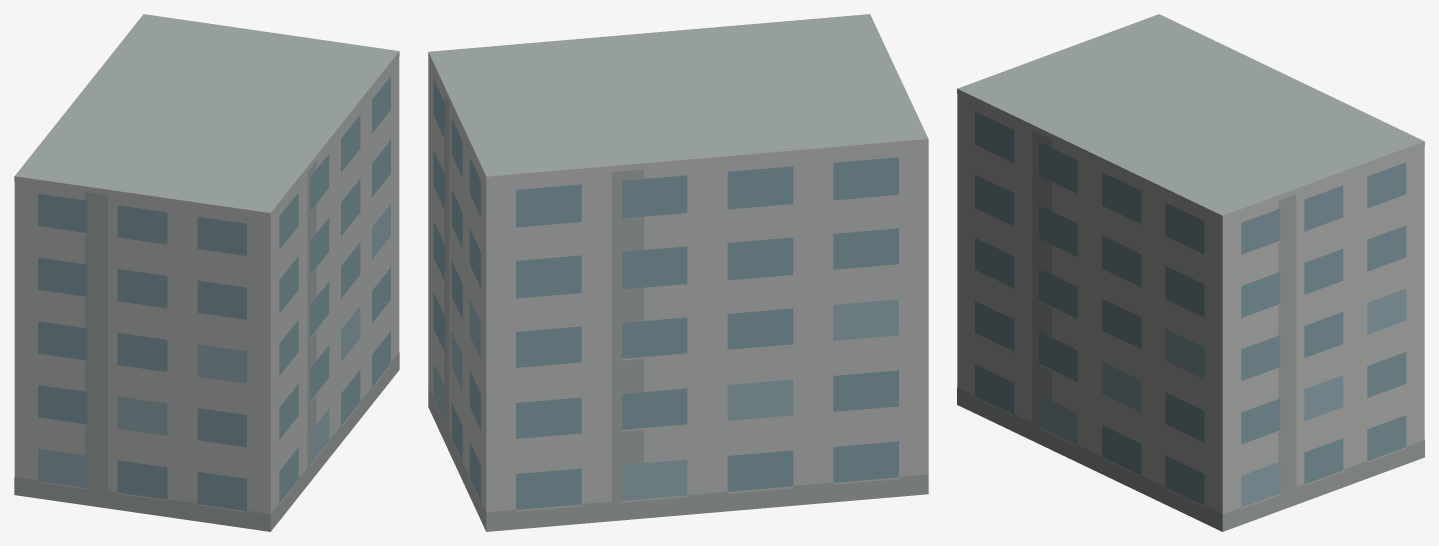
File: survey-upis-32761950.glb
3 views of the same model, side by side, from view 1: azimuth 30°, elevation 25°; view 2: azimuth 150°, elevation 25°; view 3: azimuth 270°, elevation 25° (orthographic). The views are drawn at different scales.
Visible parts, largest first — view 1: survey-upis-32761950.tmp; view 2: survey-upis-32761950.tmp; view 3: survey-upis-32761950.tmp.
Part boxes in pixels (left/top/right/bottom): survey-upis-32761950.tmp: left=14, top=14, right=399, bottom=531; survey-upis-32761950.tmp: left=428, top=14, right=928, bottom=531; survey-upis-32761950.tmp: left=957, top=14, right=1424, bottom=531.
Bounding box in the file's own units: 19.37 × 14.15 × 18.97.
